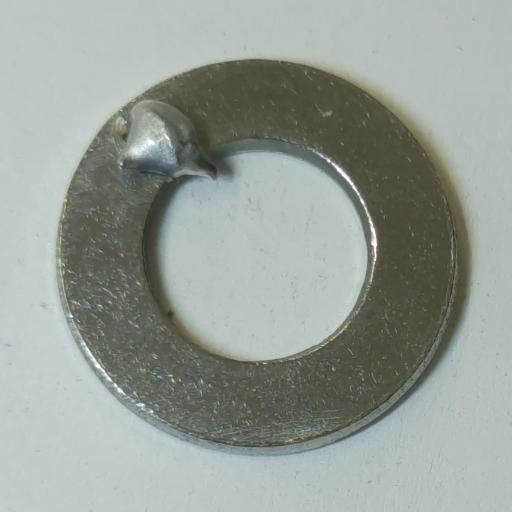excess_material: (116, 100, 218, 181)
